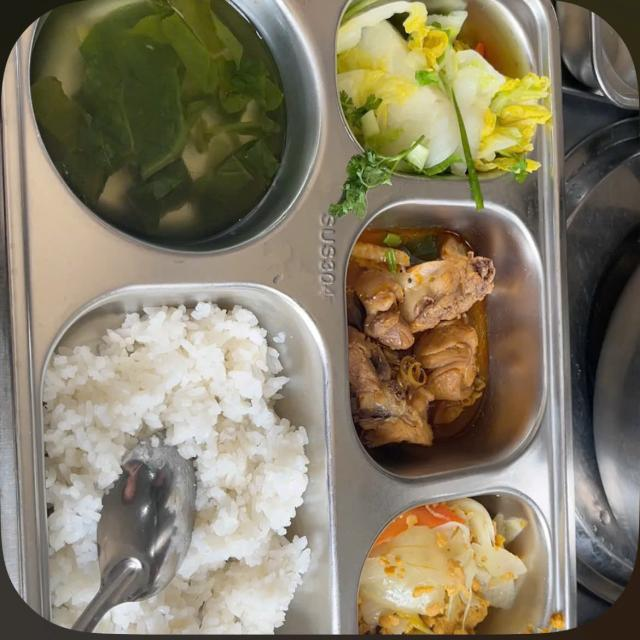thit_kho: (373, 235, 512, 468)
